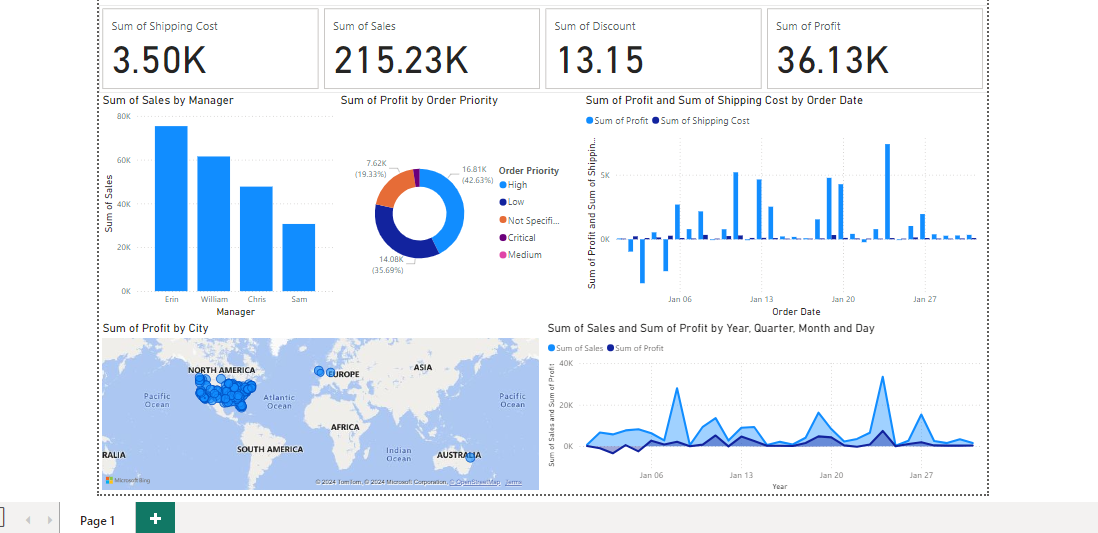

The page's visual inventory and layout, read from the dashboard file:
{"tool":"powerbi","page":{"name":"Page 1","canvas":[1280,720],"ordinal":0},"visuals":[{"type":"cardVisual","fields":{"Data":["Orders.Shipping Cost","Orders.Sales","Orders.Discount","Orders.Profit"]},"box":[0,15.8,1280.2,126.7],"z":0},{"type":"columnChart","fields":{"Category":["Users.Manager"],"Y":["Orders.Sales"]},"box":[0,142.6,342.7,328.3],"z":1},{"type":"map","fields":{"Category":["Orders.City"],"Size":["Orders.Profit"]},"box":[0,470.9,639.4,249.1],"z":2},{"type":"donutChart","fields":{"Category":["Orders.Order Priority"],"Y":["Orders.Profit"]},"box":[342.7,142.6,339.8,328.3],"z":3},{"type":"areaChart","fields":{"Category":["Orders.Order Date.Variation.Date Hierarchy.Year","Orders.Order Date.Variation.Date Hierarchy.Quarter","Orders.Order Date.Variation.Date Hierarchy.Month","Orders.Order Date.Variation.Date Hierarchy.Day"],"Y":["Orders.Sales","Orders.Profit"]},"box":[640.8,470.9,639.4,249.1],"z":4},{"type":"clusteredColumnChart","fields":{"Y":["Orders.Profit","Orders.Shipping Cost"],"Category":["Orders.Order Date"]},"box":[695.5,142.6,584.6,328.3],"z":5}]}

Visuals, with their boxes on the page's 1280x720 design canvas (x1, y1, x2, y2). These are canvas units, not pixel positions in the 1098x533 screenshot, which may show the page scaled, cropped or inside an application window:
cardVisual - Orders.Shipping Cost x Orders.Sales: BBox(0, 16, 1280, 142)
columnChart - Users.Manager x Orders.Sales: BBox(0, 143, 343, 471)
map - Orders.City x Orders.Profit: BBox(0, 471, 639, 720)
donutChart - Orders.Order Priority x Orders.Profit: BBox(343, 143, 682, 471)
areaChart - Orders.Order Date.Variation.Date Hierarchy.Year x Orders.Order Date.Variation.Date Hierarchy.Quarter: BBox(641, 471, 1280, 720)
clusteredColumnChart - Orders.Profit x Orders.Shipping Cost: BBox(696, 143, 1280, 471)
